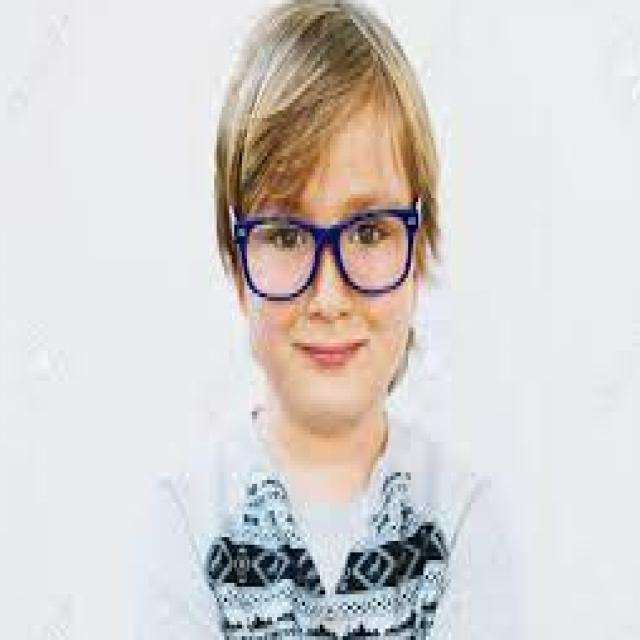Glasses: (227, 190, 425, 304)
